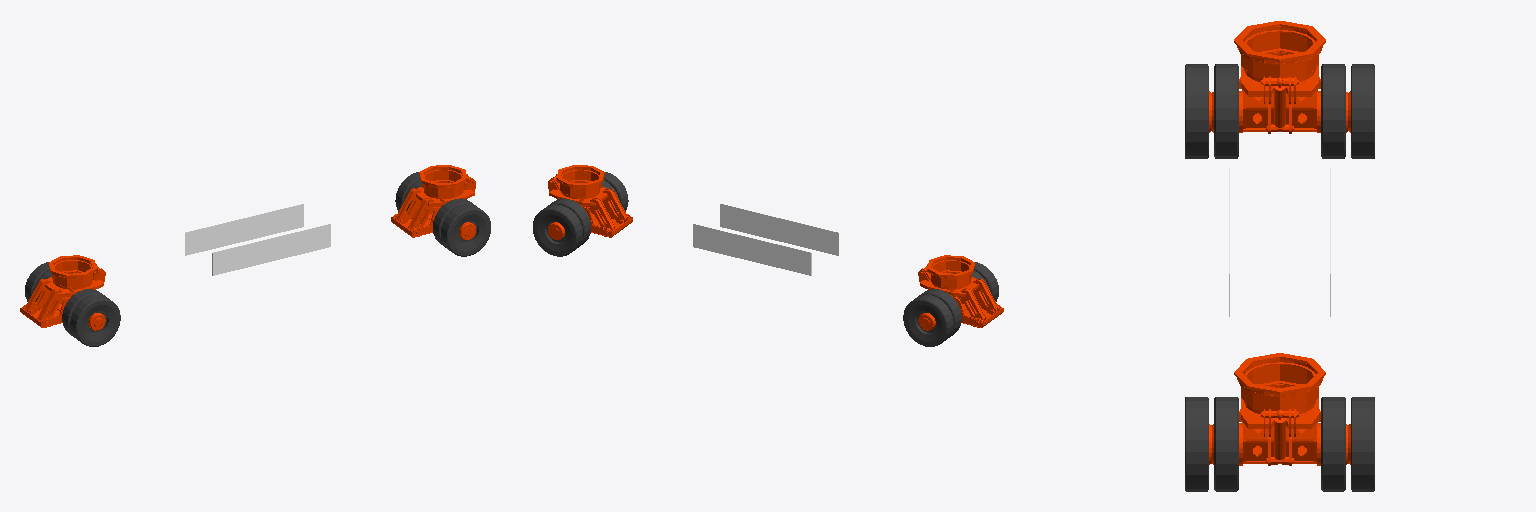
robot.urdf — AGV:
<?xml version='1.0'?>
<robot name="AGV">
  <link name="base_link">
    <visual>
      <origin xyz="0 0 0" rpy="0 0 1.5709" />
      <geometry>
        <mesh filename="package://rviz_monitor/data/meshes/agv_base.DAE" scale="1.0 1.0 1.0" />
      </geometry>
      <material name="white">
        <color rgba="1 0.29804 0.0 1" />
      </material>
    </visual>
  </link>

  <!--front axle-->
  <link name="front_axle">
    <visual>
      <origin xyz="0 0 0" rpy="0 0 1.5709" />
      <geometry>
        <mesh filename="package://rviz_monitor/data/meshes/agv_axle.DAE" scale="1.0 1.0 1.0" />
      </geometry>
      <material name="">
        <color rgba="1 0.29804 0.0 1" />
      </material> 
    </visual>
  </link>
  <joint name="base_to_front_axle_steering_shaft" type="continuous">
    <origin rpy="0  0  0" xyz="5  0 0.7"/>
    <parent link="base_link"/>
    <child link="front_axle"/>    
    <axis xyz="0 0 1"/>
  </joint>
    <!--    front wheel                        -->
    <link name="front_wheel">
    <visual>
      <origin xyz="0 0 0" rpy="0 0 1.5709" />
      <geometry>
        <mesh filename="package://rviz_monitor/data/meshes/agv_wheel.DAE" scale="1.0 1.0 1.0"/>
      </geometry>
      <material name="">
        <color rgba="0.29804 0.29804 0.29804 1" />
      </material>
    </visual>
  </link>
  <joint name="front_axle_to_front_wheel" type="fixed">
    <origin xyz="0 0.0 0.0" rpy="0 0 0" />
    <parent link="front_axle" />
    <child link="front_wheel" />
    <axis xyz="0 1 0" />
  </joint>

    <!--back axle-->
  <link name="back_axle">
    <visual>
      <origin xyz="0 0 0" rpy="0 0 1.5709" />
      <geometry>
        <mesh filename="package://rviz_monitor/data/meshes/agv_axle.DAE" scale="1.0 1.0 1.0" />
      </geometry>
      <material name="">
        <color rgba="1 0.29804 0.0 1" />
      </material> 
    </visual>
  </link>
  <joint name="base_to_back_axle_steering_shaft" type="fixed">
    <origin rpy="0  0  0" xyz="-5 0  0.7"/>
    <parent link="base_link"/>
    <child link="back_axle"/>    
    <axis xyz="0 0 1"/>
  </joint>
    <!--    back wheel                        -->
    <link name="back_wheel">
    <visual>
      <origin xyz="0 0 0" rpy="0 0 1.5709" />
      <geometry>
        <mesh filename="package://rviz_monitor/data/meshes/agv_wheel.DAE" scale="1.0 1.0 1.0"/>
      </geometry>
      <material name="">
        <color rgba="0.29804 0.29804 0.29804 1" />
      </material>
    </visual>
  </link>
  <joint name="back_axle_to_back_wheel" type="fixed">
    <origin xyz="0 0.0 0.0" rpy="0 0 0" />
    <parent link="back_axle" />
    <child link="back_wheel" />
    <axis xyz="0 1 0" />
  </joint>

      <link name="logo_link">
    <visual>
      <geometry>
        <box size="3.2 0.6 0.01"/>
      </geometry>
      <material name="">
         <color rgba="1 1 1 .5"/>
         <texture filename="package://rviz_monitor/data/meshes/superg-ai.jpg"/>
    </material>
    </visual>
  </link>
  <joint name="base_to_logo_link" type="fixed">
    <origin xyz="0  0.64  1.2" rpy="-1.57075  0  0"/>
    <parent link="base_link"/>
    <child link="logo_link"/>
  </joint>

    <link name="logo_link2">
    <visual>
      <geometry>
        <box size="3.2 0.6 0.01"/>
      </geometry>
      <material name="">
         <color rgba="1 1 1 .5"/>
         <texture filename="package://rviz_monitor/data/meshes/superg-ai.jpg"/>
    </material>
    </visual>
  </link>
  <joint name="base_to_logo_link2" type="fixed">
    <origin xyz="0  -0.64 1.2" rpy="1.57075  3.14  0"/>
    <parent link="base_link"/>
    <child link="logo_link2"/>
  </joint>
</robot>

--- What the picture shows (computed from the rendered views, not written in the file) ---
3 views of the same robot in one strip: view 1: azimuth 30°, elevation 25°; view 2: azimuth 150°, elevation 25°; view 3: azimuth 270°, elevation 25° (orthographic).
Model AGV with 7 links and 6 joints (1 continuous, 5 fixed), rooted at base_link, posed all joints at 0.
Visible links, largest first — view 1: front_axle, back_axle, logo_link, logo_link2, back_wheel, front_wheel; view 2: front_axle, back_axle, logo_link, logo_link2, back_wheel, front_wheel; view 3: front_wheel, back_wheel, back_axle, front_axle.
Boxes of the visible links, x1=… form: front_axle: x1=391, y1=165, x2=475, y2=239; back_axle: x1=20, y1=255, x2=105, y2=330; logo_link: x1=185, y1=204, x2=303, y2=255; logo_link2: x1=212, y1=224, x2=330, y2=275; back_wheel: x1=25, y1=262, x2=120, y2=346; front_wheel: x1=395, y1=172, x2=490, y2=256; front_axle: x1=548, y1=165, x2=632, y2=239; back_axle: x1=918, y1=255, x2=1003, y2=330; logo_link: x1=693, y1=224, x2=811, y2=275; logo_link2: x1=720, y1=204, x2=838, y2=255; back_wheel: x1=903, y1=262, x2=998, y2=346; front_wheel: x1=533, y1=171, x2=628, y2=256; front_wheel: x1=1185, y1=397, x2=1374, y2=491; back_wheel: x1=1185, y1=64, x2=1374, y2=158; back_axle: x1=1209, y1=21, x2=1350, y2=133; front_axle: x1=1209, y1=353, x2=1350, y2=465.
Size in the robot's own frame: 11.9 by 2.43 by 1.61 metres.
4 mesh visuals loaded from 3 distinct referenced files (2 Collada DAE); not drawn: 1 (reference not matched to a file when rendering).